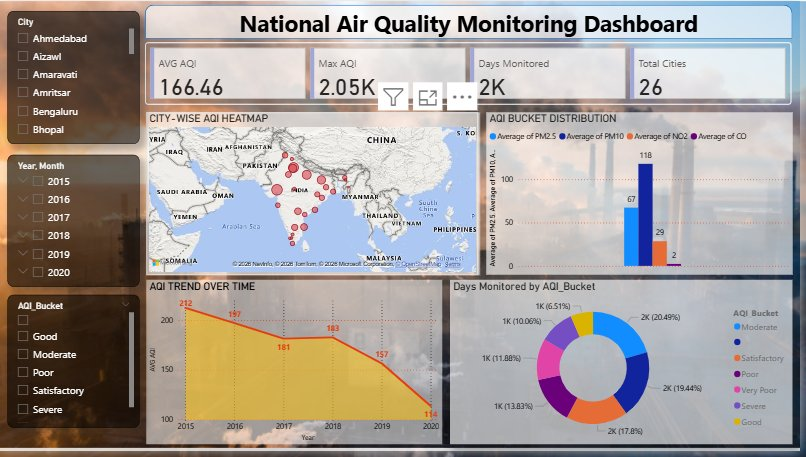

This screenshot's page, from the dashboard's own definition file:
{"tool":"powerbi","page":{"name":"Page 1","canvas":[1280,720],"ordinal":0},"visuals":[{"type":"cardVisual","fields":{"Data":["measure.AVG AQI","measure.Max AQI","measure.Days Monitored","measure.Total Cities"]},"box":[232.9,65.7,1034.3,100],"z":0},{"type":"map","title":"CITY-WISE AQI HEATMAP","fields":{"Category":["city_day.City"],"Size":["Sum(city_day.AQI)"]},"box":[233.3,178.3,533.3,260],"z":1000},{"type":"donutChart","fields":{"Category":["city_day.AQI_Bucket"],"Y":["measure.Days Monitored"]},"box":[720,445,548.3,263.3],"z":2000},{"type":"lineChart","title":"AQI TREND OVER TIME","fields":{"Category":["city_day.Date.Variation.Date Hierarchy.Year"],"Y":["measure.AVG AQI"]},"box":[233.3,445,473.3,263.3],"z":3000},{"type":"clusteredColumnChart","title":"AQI BUCKET DISTRIBUTION","fields":{"Y":["Avg(city_day.PM2.5)","Avg(city_day.PM10)","Avg(city_day.NO2)","Avg(city_day.CO)"]},"box":[778.3,178.3,490,260],"z":4000},{"type":"slicer","fields":{"Values":["city_day.City"]},"box":[11.4,15.7,211.4,212.9],"z":5000},{"type":"slicer","fields":{"Values":["city_day.Date.Variation.Date Hierarchy.Year","city_day.Date.Variation.Date Hierarchy.Month"]},"box":[11.4,245.7,211.4,211.4],"z":6000},{"type":"slicer","fields":{"Values":["city_day.AQI_Bucket"]},"box":[11.4,470,211.4,212.9],"z":7000},{"type":"shape","box":[232.9,5.7,1035.7,54.3],"z":8000}]}

Visuals, with their boxes in screenshot pixels (x1, y1, x2, y2), scaled from the page's 1280x720 canvas onto the 806x457 screenshot:
cardVisual - measure.AVG AQI x measure.Max AQI: (147, 42, 798, 105)
"CITY-WISE AQI HEATMAP" map: (147, 113, 483, 278)
donutChart - city_day.AQI_Bucket x measure.Days Monitored: (453, 282, 799, 450)
"AQI TREND OVER TIME" lineChart: (147, 282, 445, 450)
"AQI BUCKET DISTRIBUTION" clusteredColumnChart: (490, 113, 799, 278)
slicer - city_day.City: (7, 10, 140, 145)
slicer - city_day.Date.Variation.Date Hierarchy.Year x city_day.Date.Variation.Date Hierarchy.Month: (7, 156, 140, 290)
slicer - city_day.AQI_Bucket: (7, 298, 140, 433)
shape: (147, 4, 799, 38)
